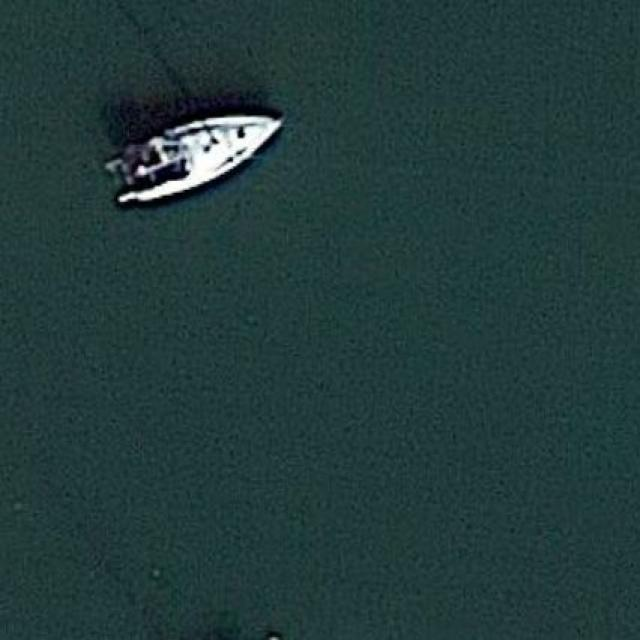boat: (101, 110, 290, 206)
